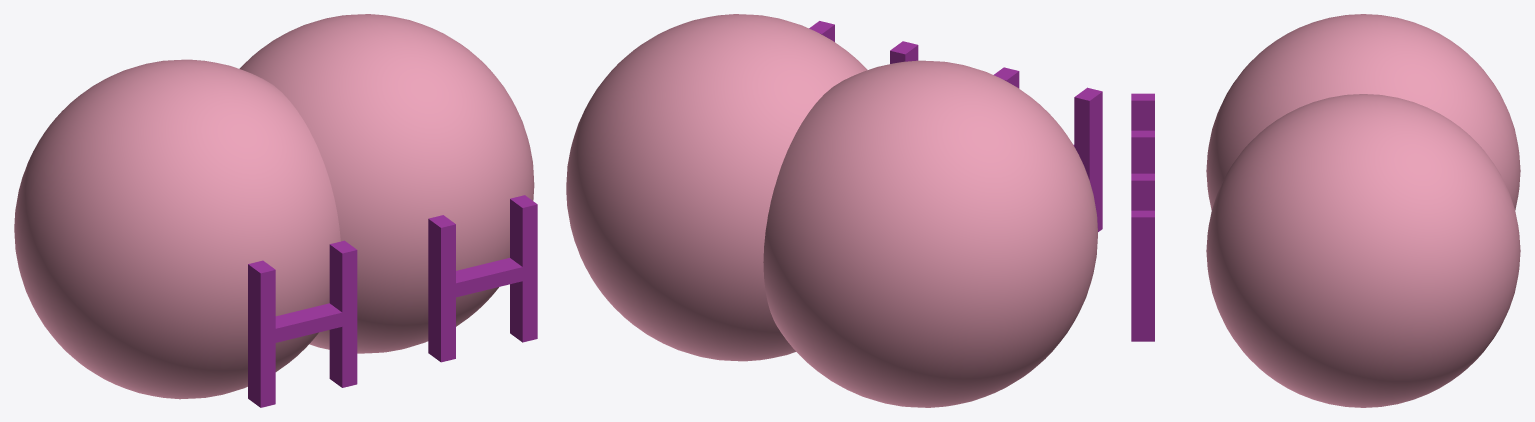
File: hydrogen_vi.glb
3 renders of one model, left to right at view 1: azimuth 30°, elevation 25°; view 2: azimuth 150°, elevation 25°; view 3: azimuth 270°, elevation 25°, orthographic. The views are drawn at different scales.
Parts seen in each view (by area): view 1: mesh_id27, mesh_id44, mesh_id34, mesh_id46; view 2: mesh_id27, mesh_id44, mesh_id34, mesh_id46; view 3: mesh_id44, mesh_id27, mesh_id46, mesh_id34.
Part boxes in pixels (left/top/right/bottom): mesh_id27: left=14, top=59, right=340, bottom=399; mesh_id44: left=239, top=14, right=534, bottom=353; mesh_id34: left=248, top=240, right=357, bottom=407; mesh_id46: left=428, top=195, right=537, bottom=362; mesh_id27: left=763, top=60, right=1097, bottom=407; mesh_id44: left=566, top=14, right=867, bottom=361; mesh_id34: left=994, top=67, right=1102, bottom=231; mesh_id46: left=809, top=21, right=918, bottom=63; mesh_id44: left=1206, top=94, right=1520, bottom=407; mesh_id27: left=1206, top=14, right=1520, bottom=210; mesh_id46: left=1131, top=173, right=1154, bottom=341; mesh_id34: left=1131, top=93, right=1154, bottom=173.
Bounding box in the file's own units: 0.3233 × 0.2014 × 0.2483.
2 materials, 2 textured.
